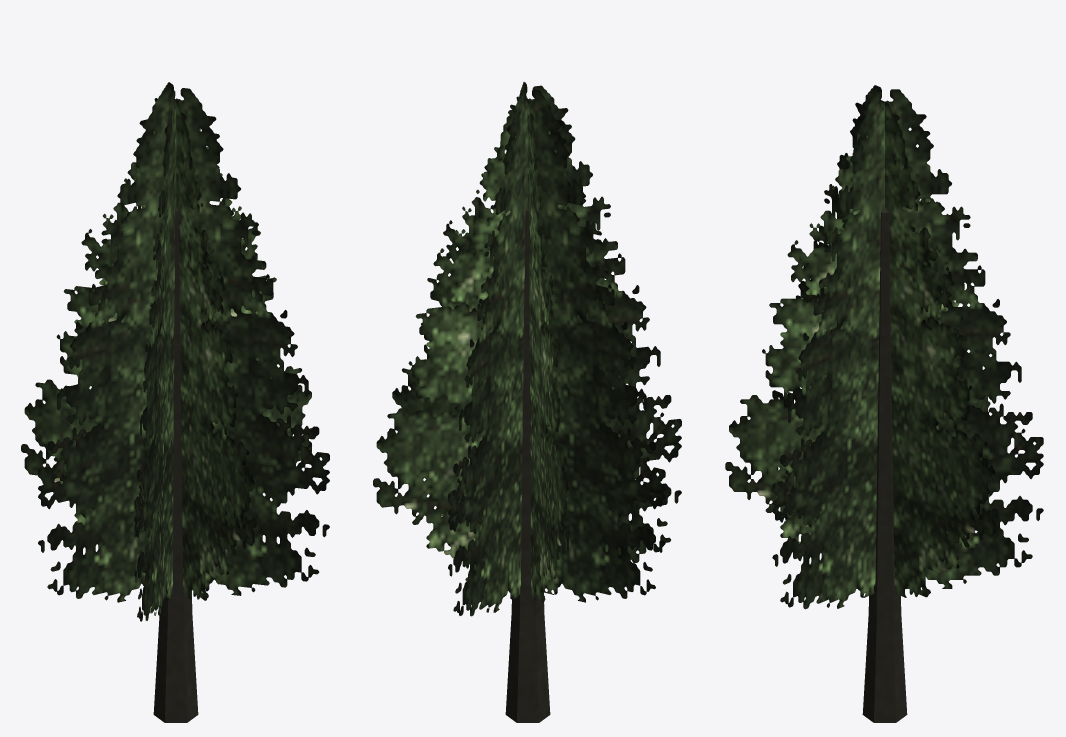
The model's file is tree07.glb.
3 renders of one model, left to right at view 1: azimuth 30°, elevation 25°; view 2: azimuth 150°, elevation 25°; view 3: azimuth 270°, elevation 25°, orthographic.
Parts seen in each view (by area): view 1: tree07; view 2: tree07; view 3: tree07.
Boxes of the visible parts, left/top/right/bottom form: tree07: left=21, top=82, right=329, bottom=722; tree07: left=373, top=82, right=681, bottom=722; tree07: left=725, top=85, right=1043, bottom=722.
Size of the model in its own units: 6 by 12.5 by 6.
1 material, 1 textured.
